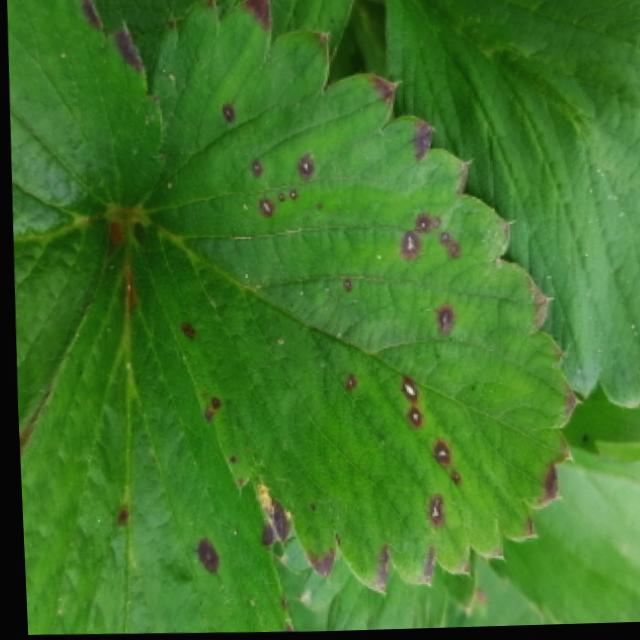Leaf Spot: (130, 0, 578, 597), (16, 228, 286, 634)
